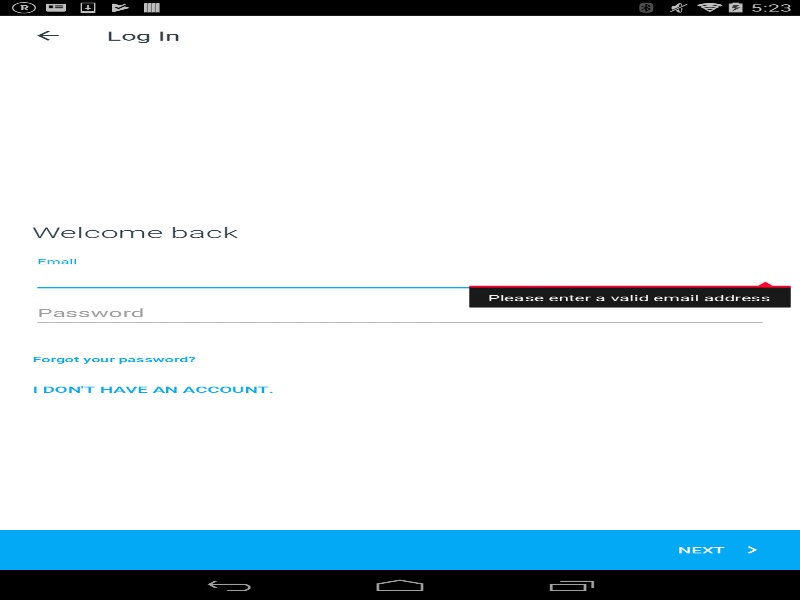Button: (32, 374, 273, 404), (646, 530, 800, 570), (32, 344, 196, 374), (10, 15, 85, 55)
Input: (32, 299, 768, 328), (32, 264, 768, 292)
